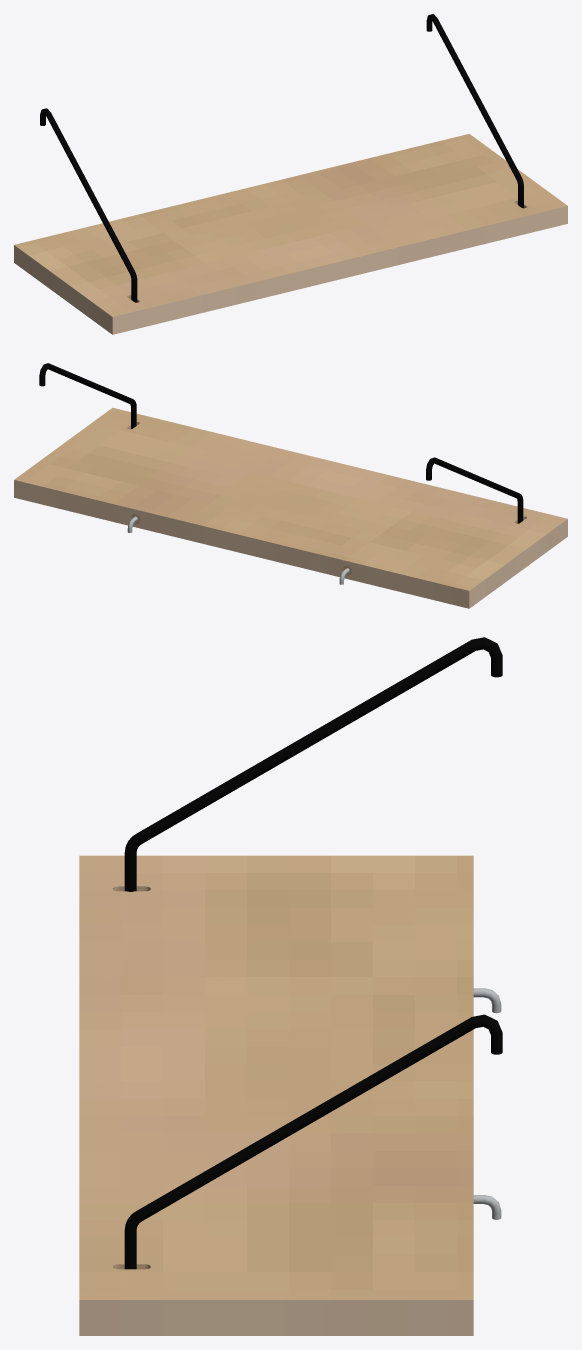
The model's file is board40x15.glb.
3 views of the same model, one above another, from view 1: azimuth 30°, elevation 25°; view 2: azimuth 150°, elevation 25°; view 3: azimuth 270°, elevation 25° (orthographic). The views are drawn at different scales.
Visible parts, largest first — view 1: Geom3D (×4); view 2: Geom3D (×4); view 3: Geom3D (×4).
Part boxes in pixels (x1=…): Geom3D (×4): x1=14, y1=14, x2=567, y2=334; Geom3D (×4): x1=14, y1=363, x2=567, y2=608; Geom3D (×4): x1=79, y1=637, x2=502, y2=1335.
Size of the model in its own units: 0.4 by 0.1211 by 0.1611.
4 materials, 3 textured.
